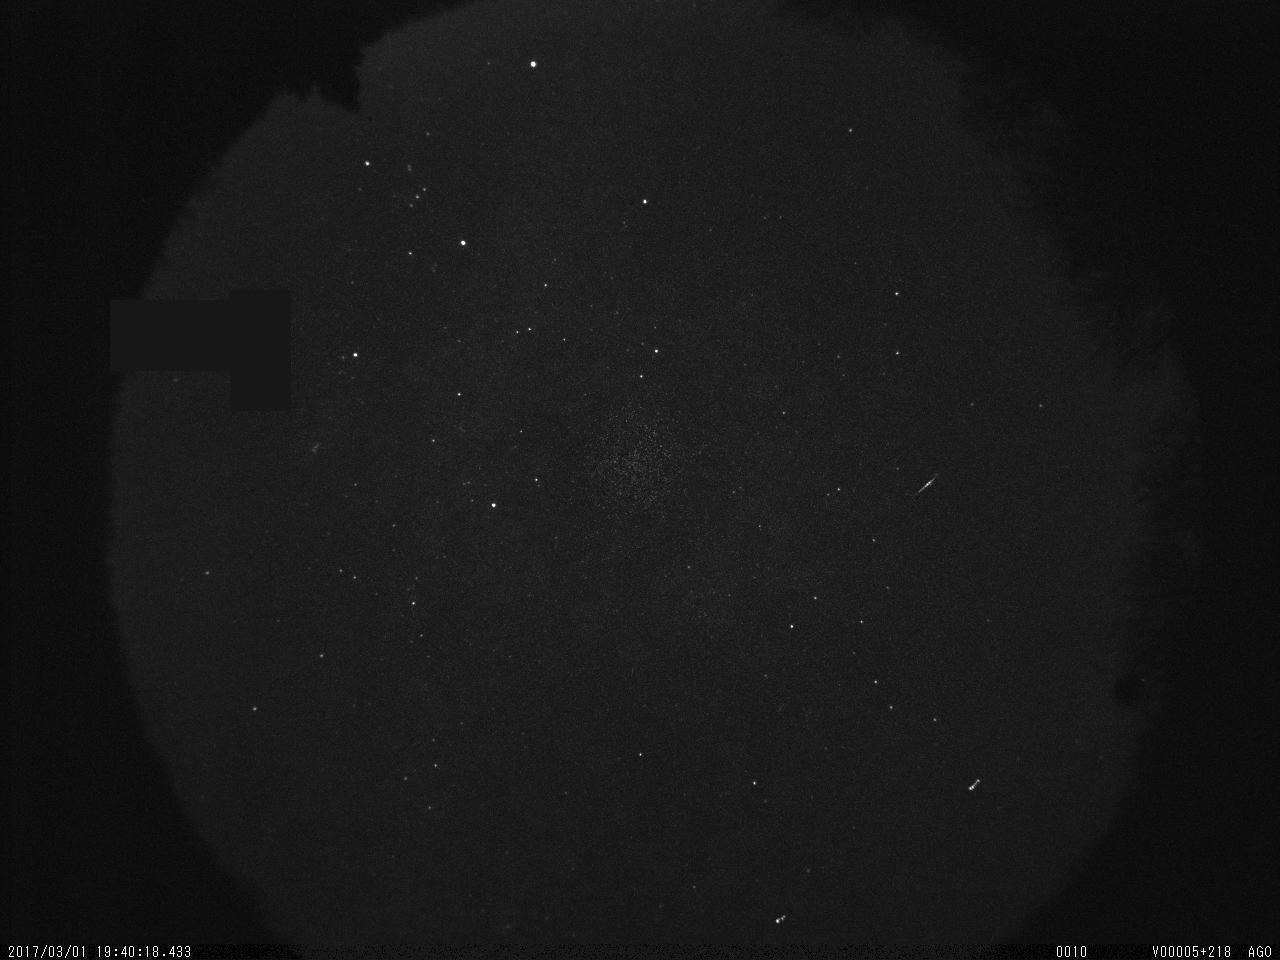Meteor: (913, 470, 940, 498), (966, 774, 985, 798)
